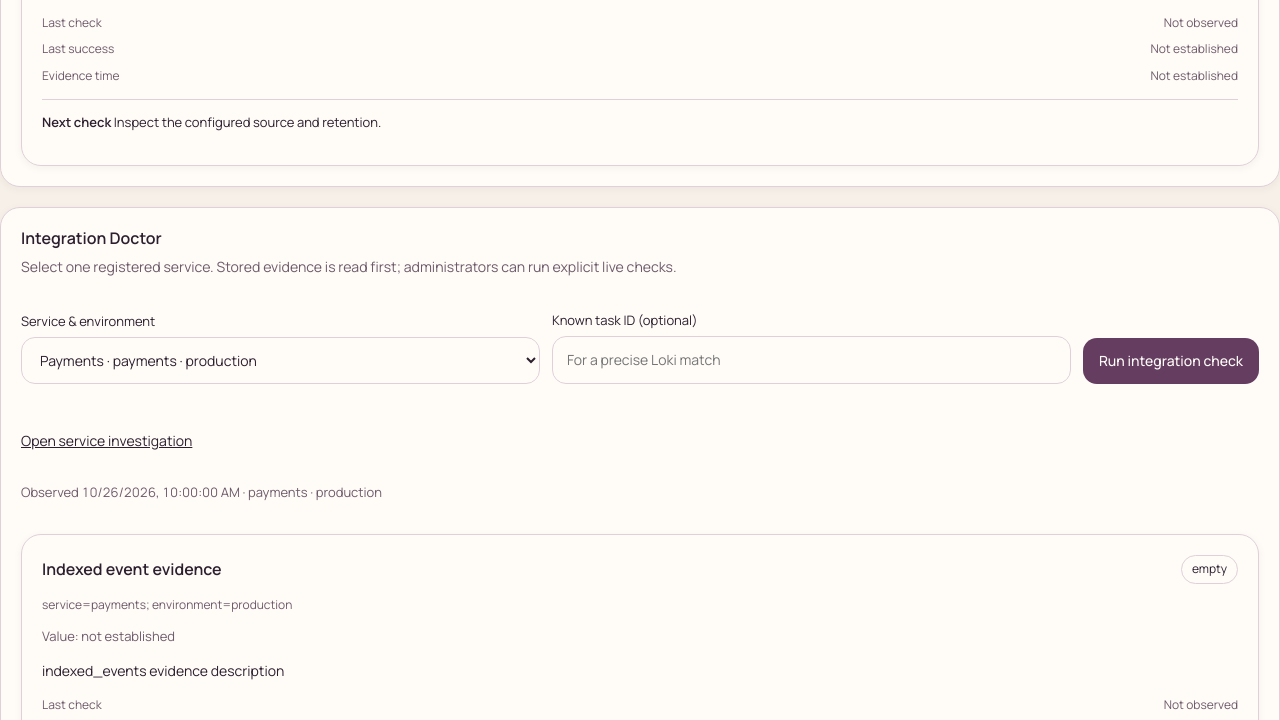
Scenario: Studio Health and Integration Doctor › shows empty scoped evidence without converting missing values to zero, then runs a known task probe
The width and height of the screenshot is (1280, 720).
(page scrolled)
Expected: the text "indexed_events evidence description" is shown, [42,661,284,680]
Expected: the text "empty" is shown, [1181,555,1238,584]
Type "known-task" into the field labelled "Known task ID (optional)" at x=812, y=360, box [552,336,1071,384]
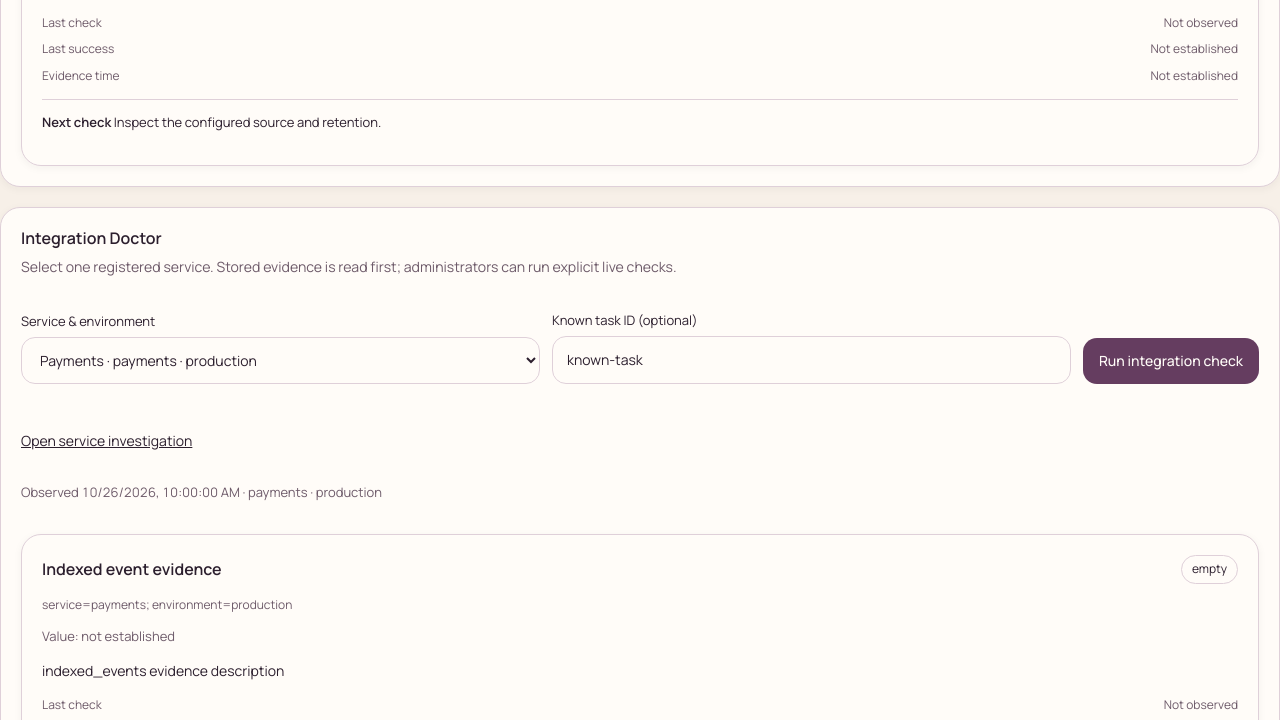
Click the button "Run integration check" at x=1171, y=361, box [1083,338,1259,384]
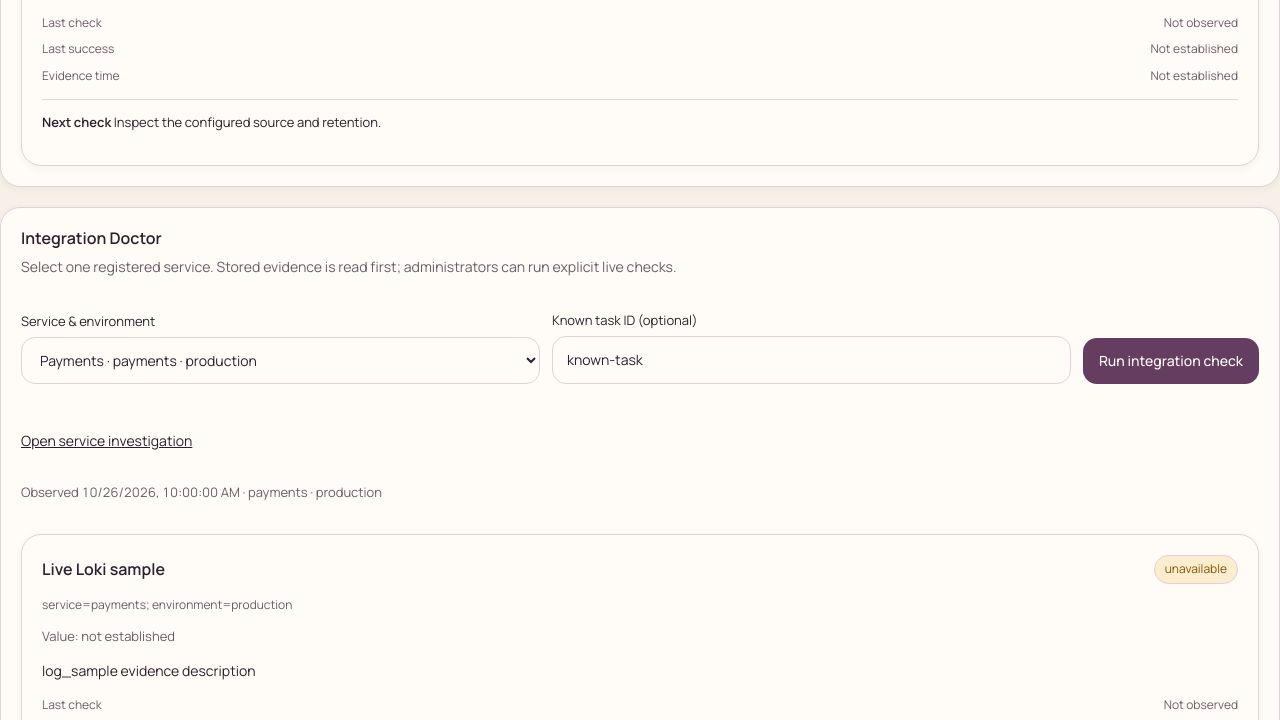
Expected: the text "log_sample evidence description" is shown, [42,661,256,680]
Expected: the text "unavailable" is shown, [1154,555,1238,584]
